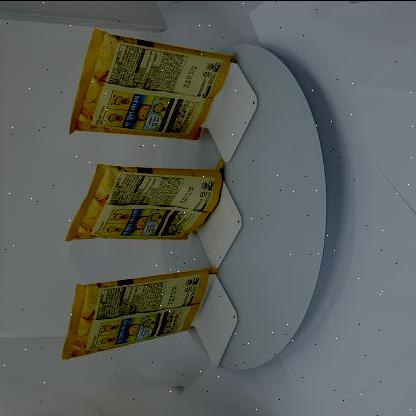Others: (52, 22, 244, 366)
